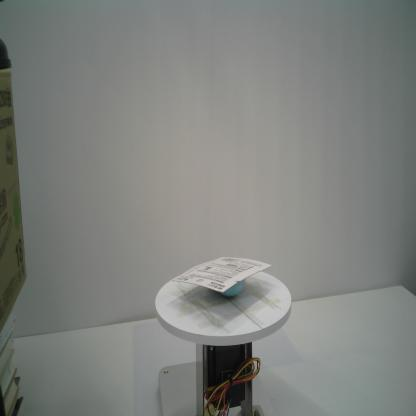Stationery: (172, 256, 272, 300)
